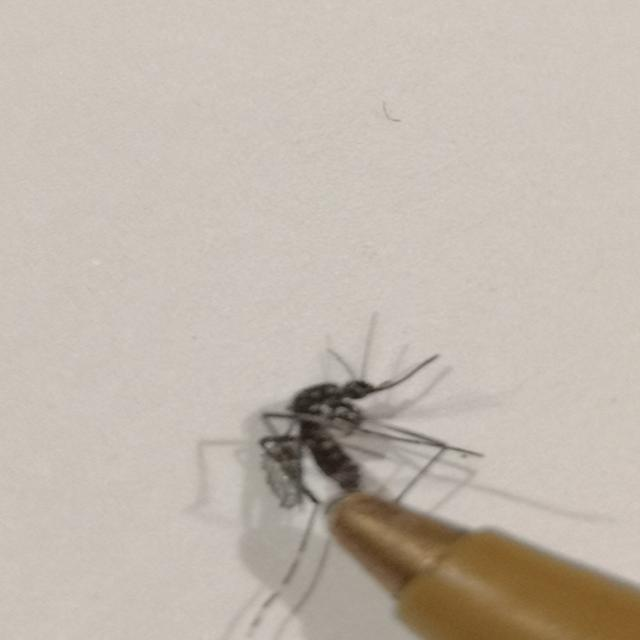albopictus: (211, 322, 492, 586)
